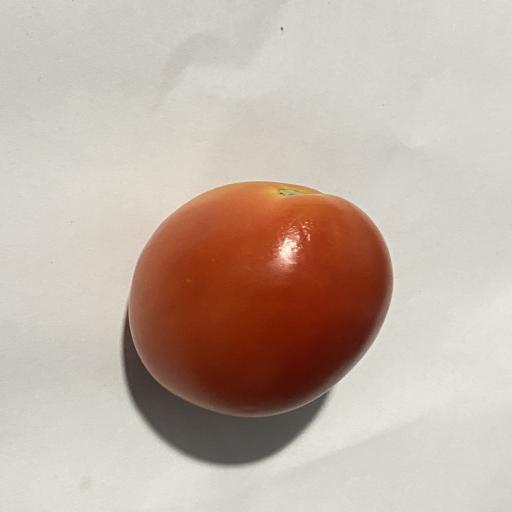ripe: (129, 182, 392, 416)
